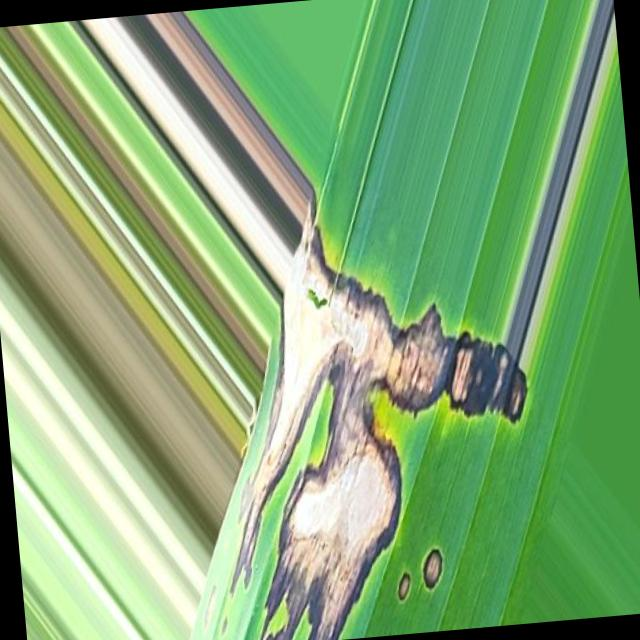Banana_Black_Sigatoka: (218, 152, 588, 448), (228, 458, 488, 640)
